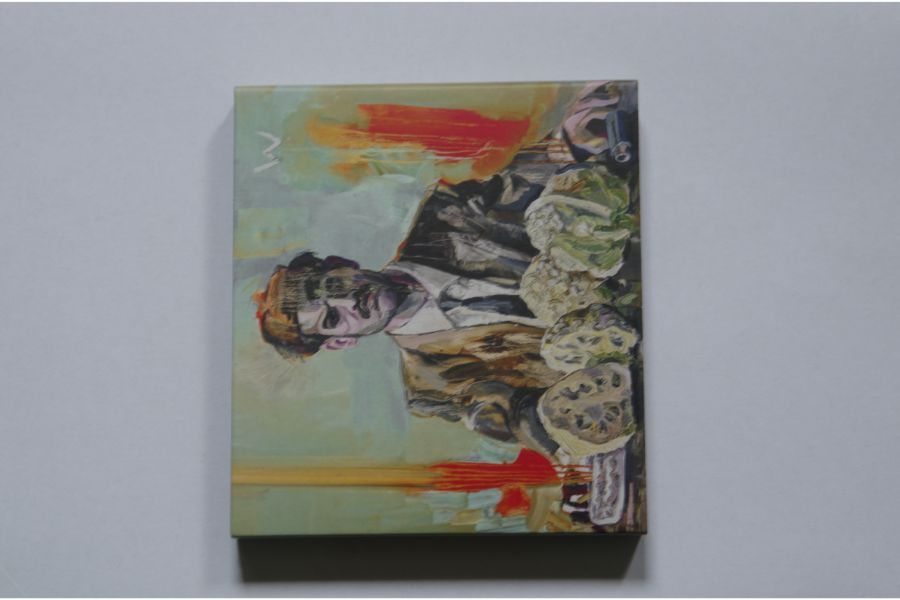album: (228, 78, 653, 541)
